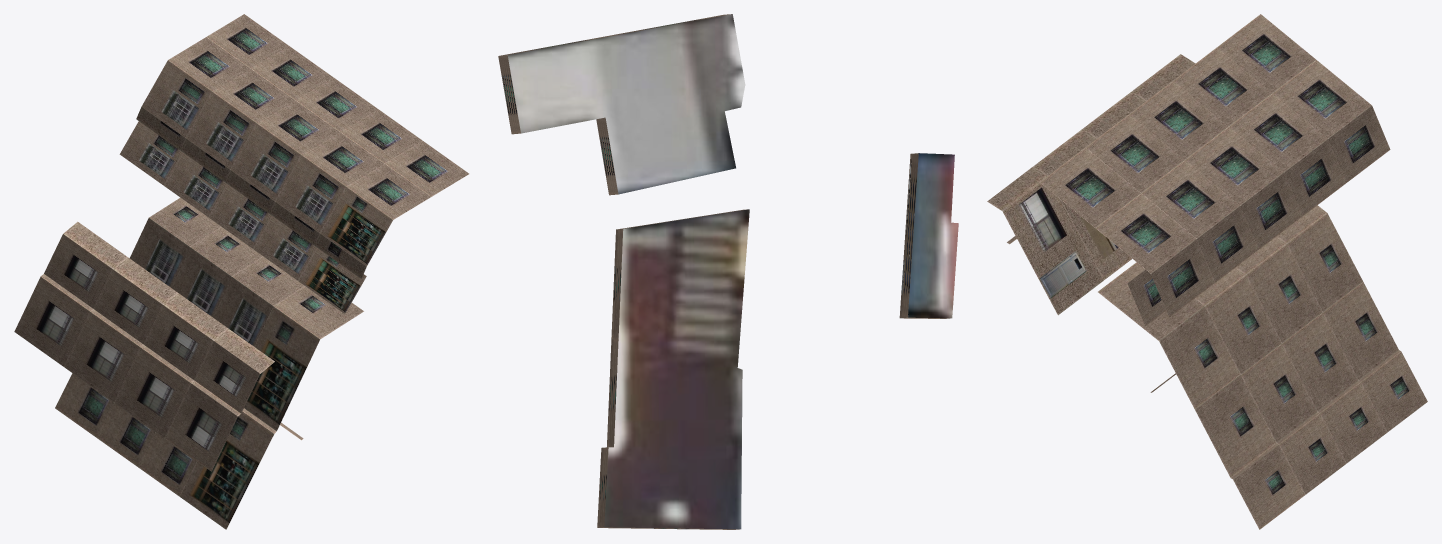
3 renders of one model, left to right at view 1: azimuth 30°, elevation 25°; view 2: azimuth 150°, elevation 25°; view 3: azimuth 270°, elevation 25°, orthographic. The views are drawn at different scales.
Bounding box in the file's own units: 27.07 × 28.34 × 24.48.
Materials: 12 (12 with a texture image).
